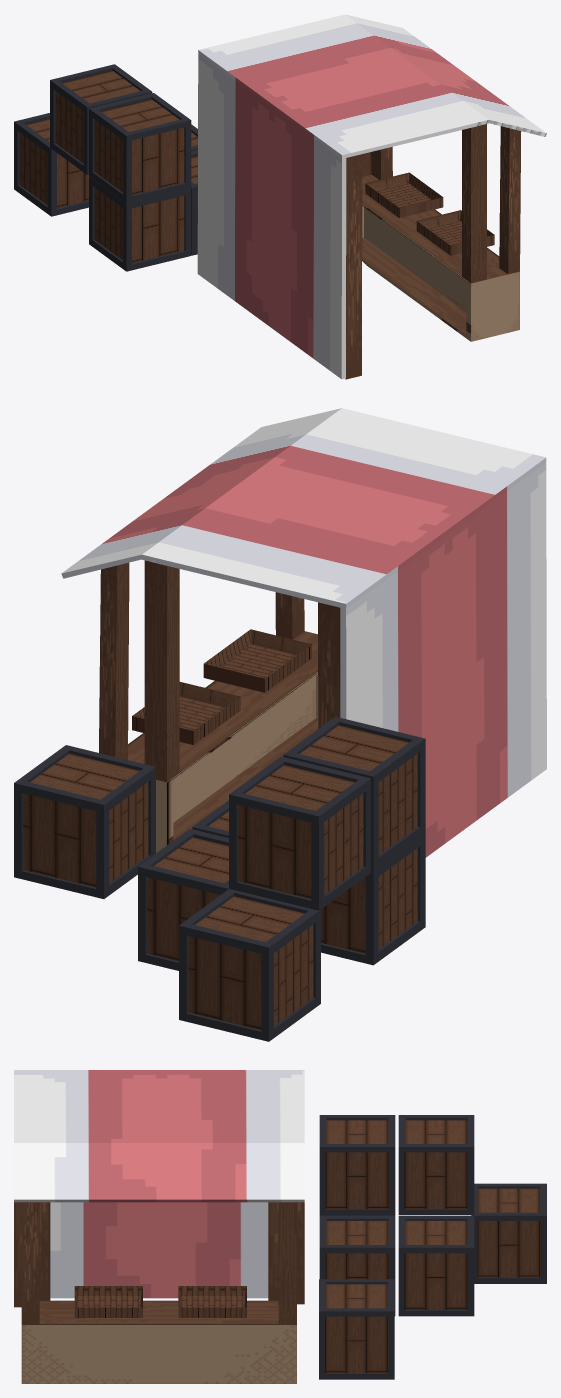
The model's file is Shop5.fbx.
The picture shows the model from 3 angles, top to bottom: view 1: azimuth 30°, elevation 25°; view 2: azimuth 150°, elevation 25°; view 3: azimuth 270°, elevation 25°; orthographic projection. The views are drawn at different scales.
Visible parts, largest first — view 1: box5.001; view 2: box5.001; view 3: box5.001.
Boxes of the visible parts, box(x1,y1,x2,y2) form: box5.001: box(14, 14, 546, 379); box5.001: box(14, 408, 546, 1041); box5.001: box(14, 1070, 546, 1383).
Size of the model in its own units: 116 by 93.12 by 198.
Materials: 18 (18 with a texture image).
